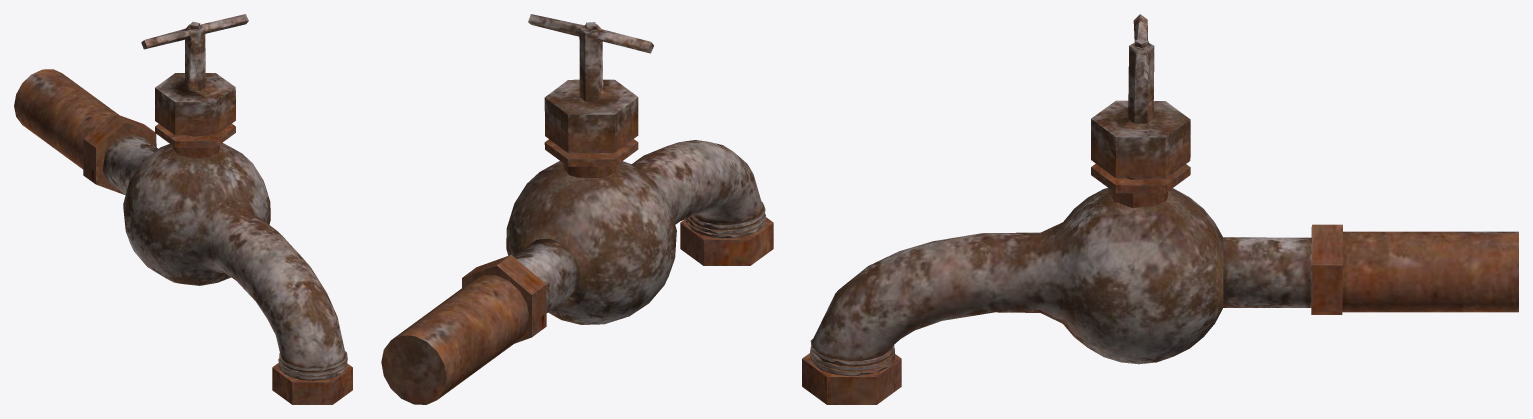
The model's file is old_faucet.glb.
3 views of the same model, side by side, from view 1: azimuth 30°, elevation 25°; view 2: azimuth 150°, elevation 25°; view 3: azimuth 270°, elevation 25° (orthographic). The views are drawn at different scales.
Parts seen in each view (by area): view 1: old_faucet; view 2: old_faucet; view 3: old_faucet.
Part boxes in pixels (x1,y1,x2,y2): old_faucet: [14, 14, 352, 404]; old_faucet: [381, 14, 773, 404]; old_faucet: [802, 14, 1518, 404].
Size of what is drawn, in the model's own units: 0.0509 by 0.1064 by 0.2.
Materials: 1 (1 with a texture image).
